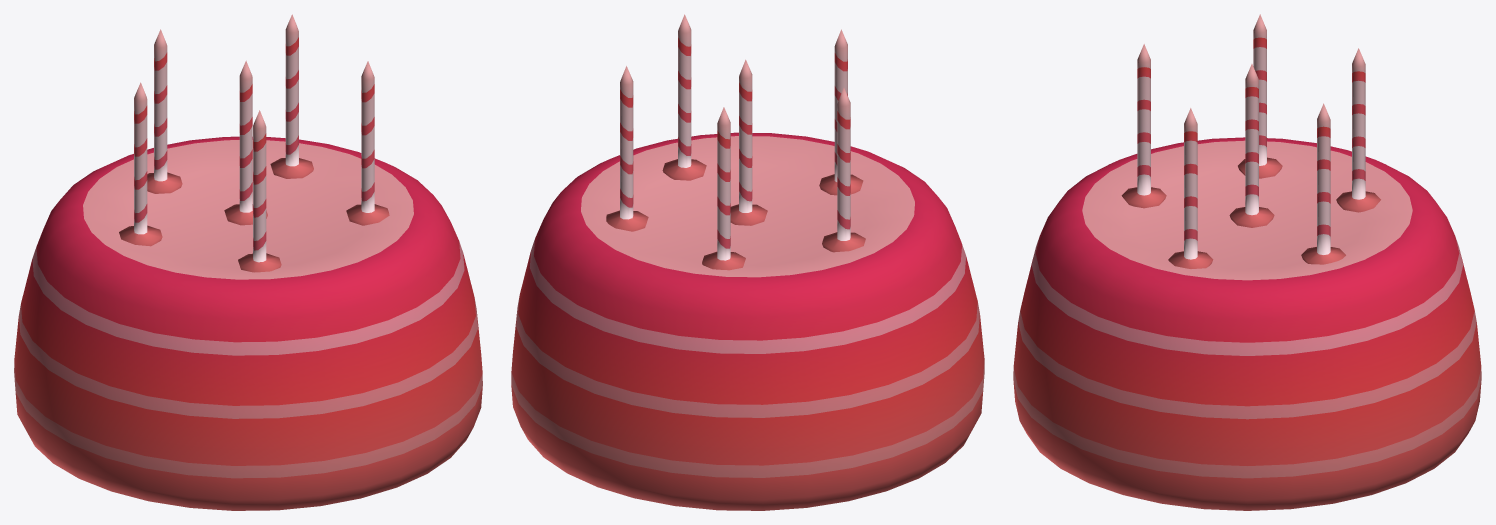
The model's file is cake_006.fbx.
3 renders of one model, left to right at view 1: azimuth 30°, elevation 25°; view 2: azimuth 150°, elevation 25°; view 3: azimuth 270°, elevation 25°, orthographic.
Visible parts, largest first — view 1: cake_006; view 2: cake_006; view 3: cake_006.
Part boxes in pixels (x1=…): cake_006: x1=14, y1=14, x2=482, y2=510; cake_006: x1=511, y1=14, x2=984, y2=510; cake_006: x1=1013, y1=14, x2=1481, y2=510.
Size of the model in its own units: 22.47 by 22.47 by 18.99.
